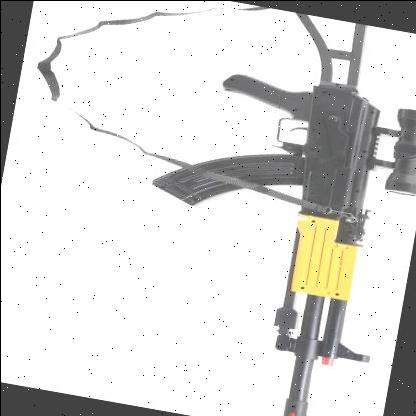rifle: (110, 0, 416, 416)
